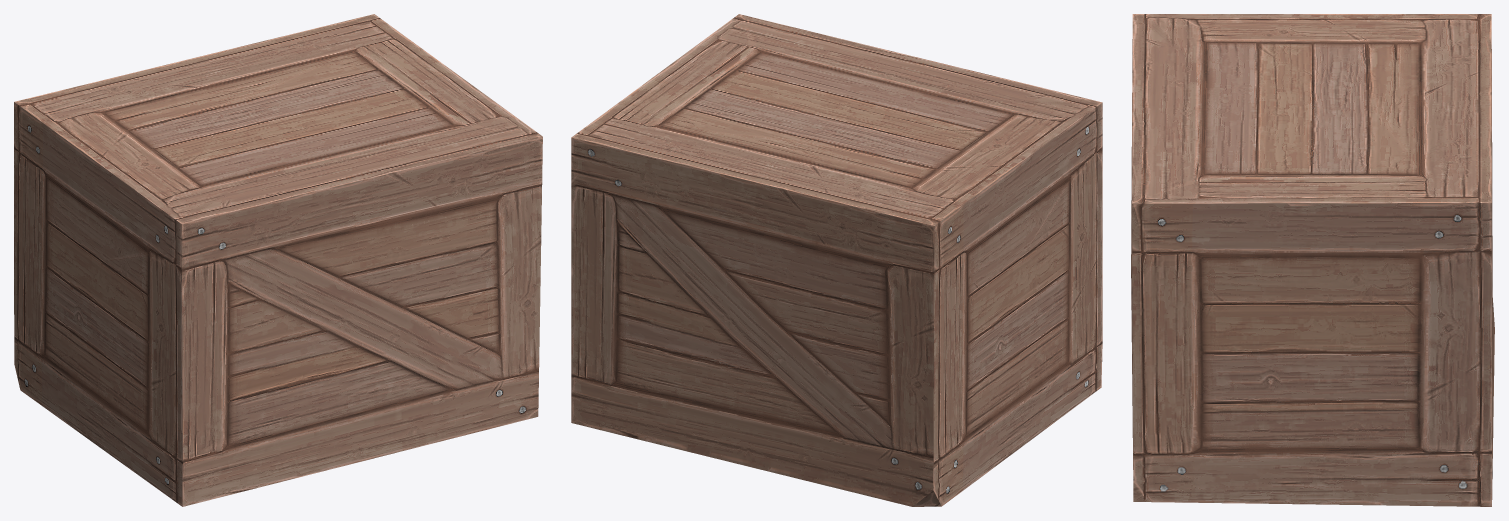
The model's file is Box_Wood_01_LOD3.fbx.
3 views of the same model, side by side, from view 1: azimuth 30°, elevation 25°; view 2: azimuth 150°, elevation 25°; view 3: azimuth 270°, elevation 25° (orthographic). The views are drawn at different scales.
Parts seen in each view (by area): view 1: Box_Wood_01_LOD3; view 2: Box_Wood_01_LOD3; view 3: Box_Wood_01_LOD3.
Boxes of the visible parts, x1,y1,x2,y2 form: Box_Wood_01_LOD3: [14, 14, 542, 506]; Box_Wood_01_LOD3: [571, 14, 1102, 506]; Box_Wood_01_LOD3: [1131, 14, 1494, 506].
Size of the model in its own units: 400 by 299 by 324.
